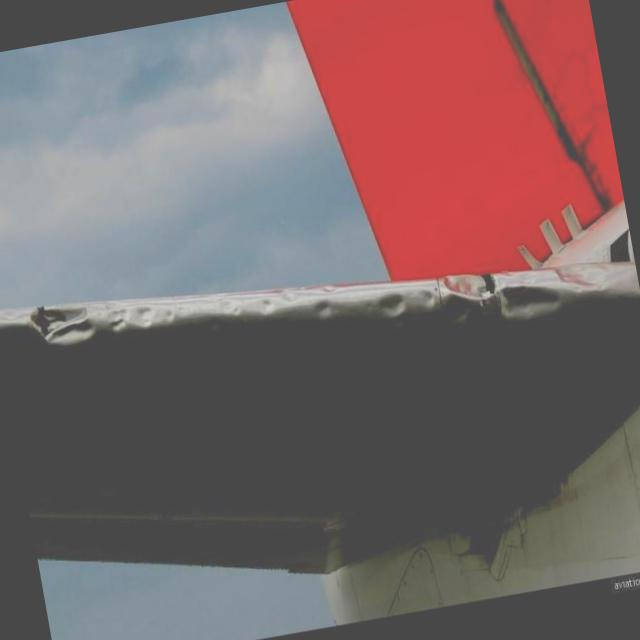dent: (21, 205, 613, 416)
